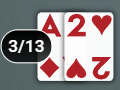2: (65, 12, 89, 39)
a: (38, 13, 63, 39)
